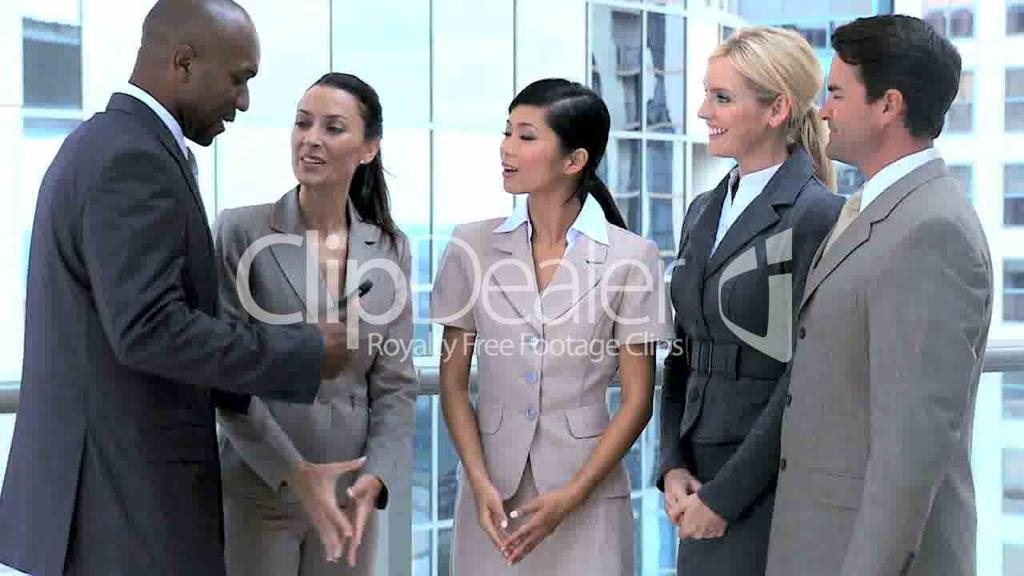face: (184, 50, 258, 146), (292, 97, 366, 184), (697, 69, 768, 155), (819, 62, 881, 158), (499, 110, 565, 192)
